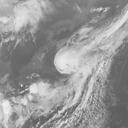cyclone: (54, 46, 97, 77)
